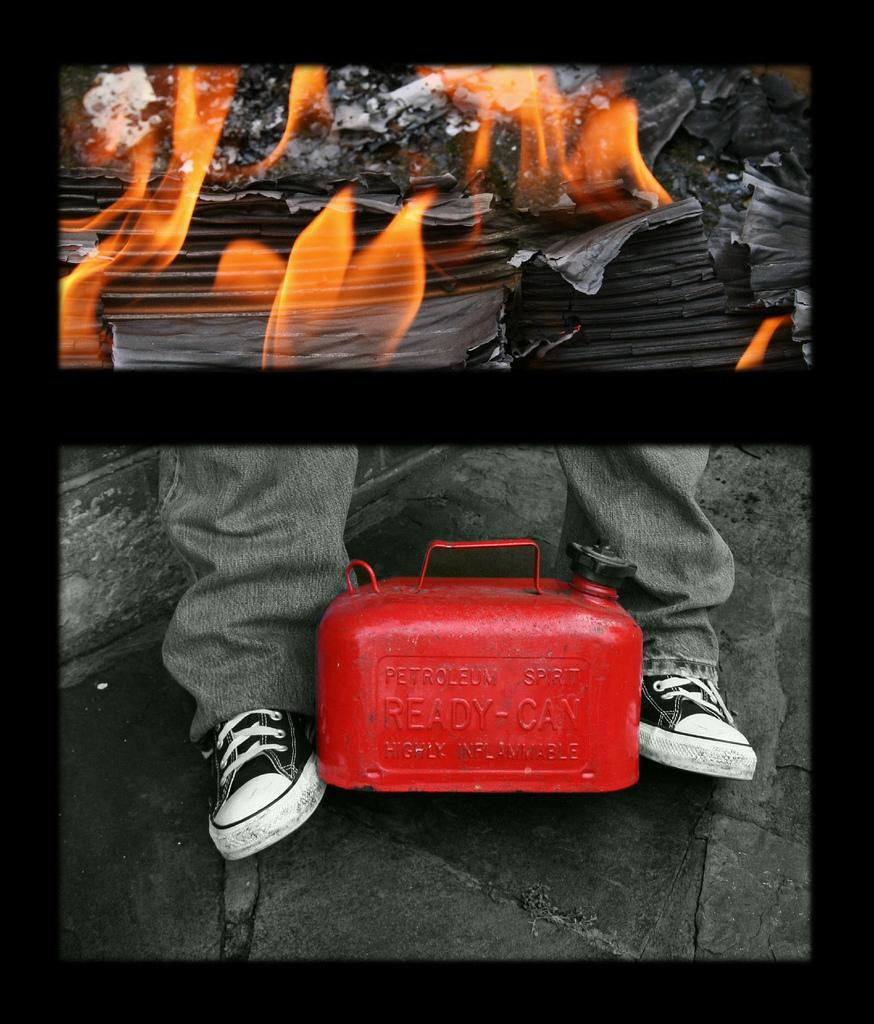fire: (85, 92, 210, 328), (288, 225, 415, 348), (548, 98, 672, 210)
